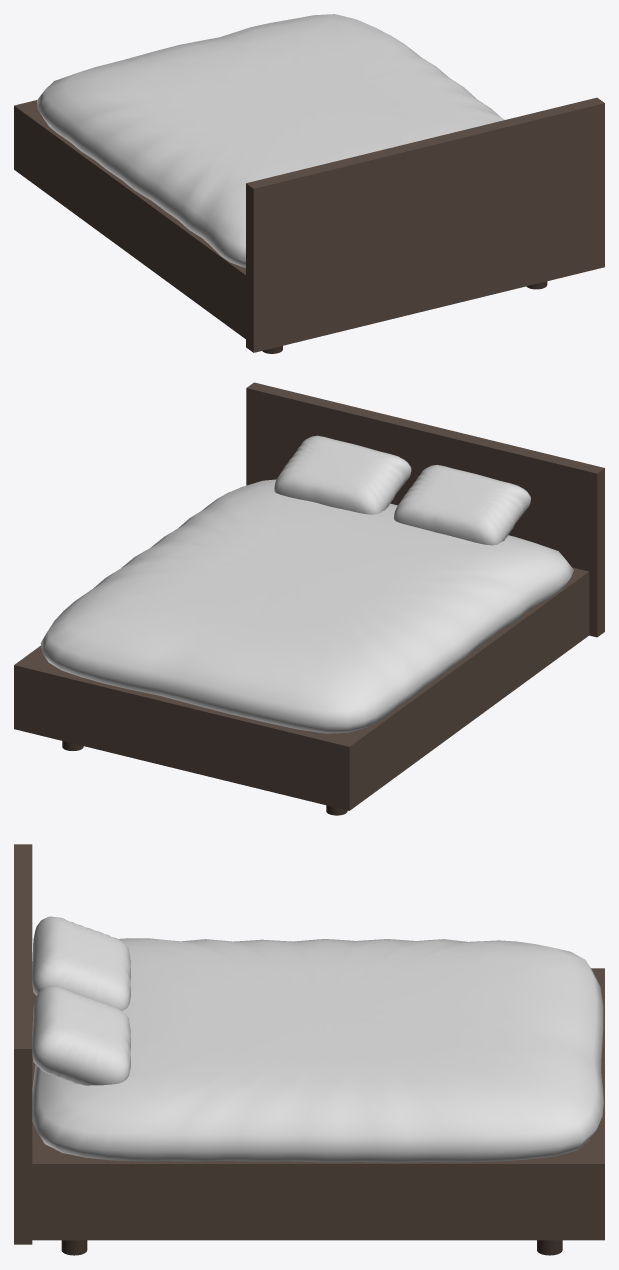
Rendered from Lit2_1.fbx.
3 renders of one model, top to bottom at view 1: azimuth 30°, elevation 25°; view 2: azimuth 150°, elevation 25°; view 3: azimuth 270°, elevation 25°, orthographic. The views are drawn at different scales.
Visible parts, largest first — view 1: pCube2137, pCylinder1514, pCube2136; view 2: pCylinder1514, pCube2136, pCube2137, pCylinder1518, pCylinder1513; view 3: pCylinder1514, pCube2136, pCylinder1513, pCube2137, pCylinder1518, pCylinder1515.
Boxes of the visible parts, x1,y1,x2,y2 form: pCube2137: (246, 97, 604, 352); pCylinder1514: (37, 14, 504, 267); pCube2136: (14, 100, 245, 338); pCylinder1514: (40, 479, 573, 733); pCube2136: (14, 567, 589, 810); pCube2137: (246, 382, 604, 637); pCylinder1518: (394, 465, 530, 545); pCylinder1513: (274, 435, 411, 514); pCylinder1514: (32, 938, 603, 1162); pCube2136: (32, 968, 604, 1240); pCylinder1513: (32, 986, 130, 1085); pCube2137: (14, 844, 32, 1244); pCylinder1518: (32, 916, 130, 1010); pCylinder1515: (61, 1240, 562, 1255).
Bounding box in the file's own units: 117 × 60.53 × 143.
